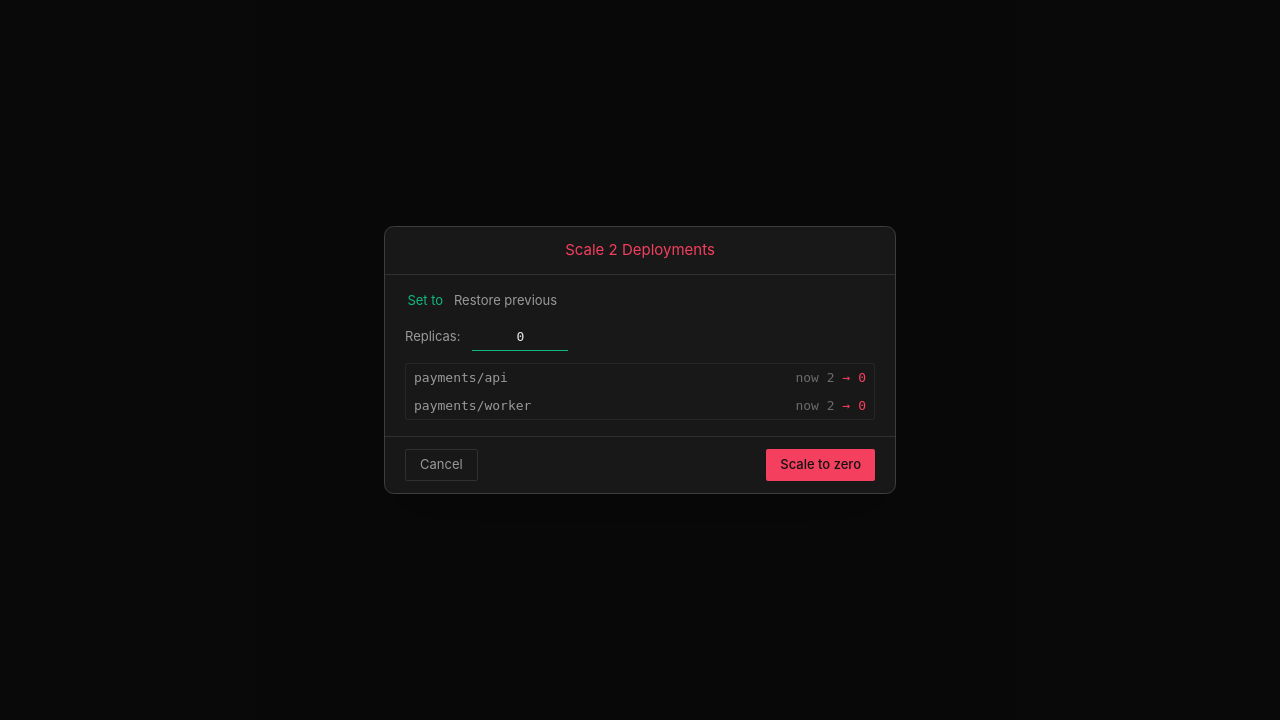
BulkScaleDialog, restoring › will not run a restore when nothing in the selection has a record
Click the button "Restore previous": (506, 300) [452, 290, 560, 310]
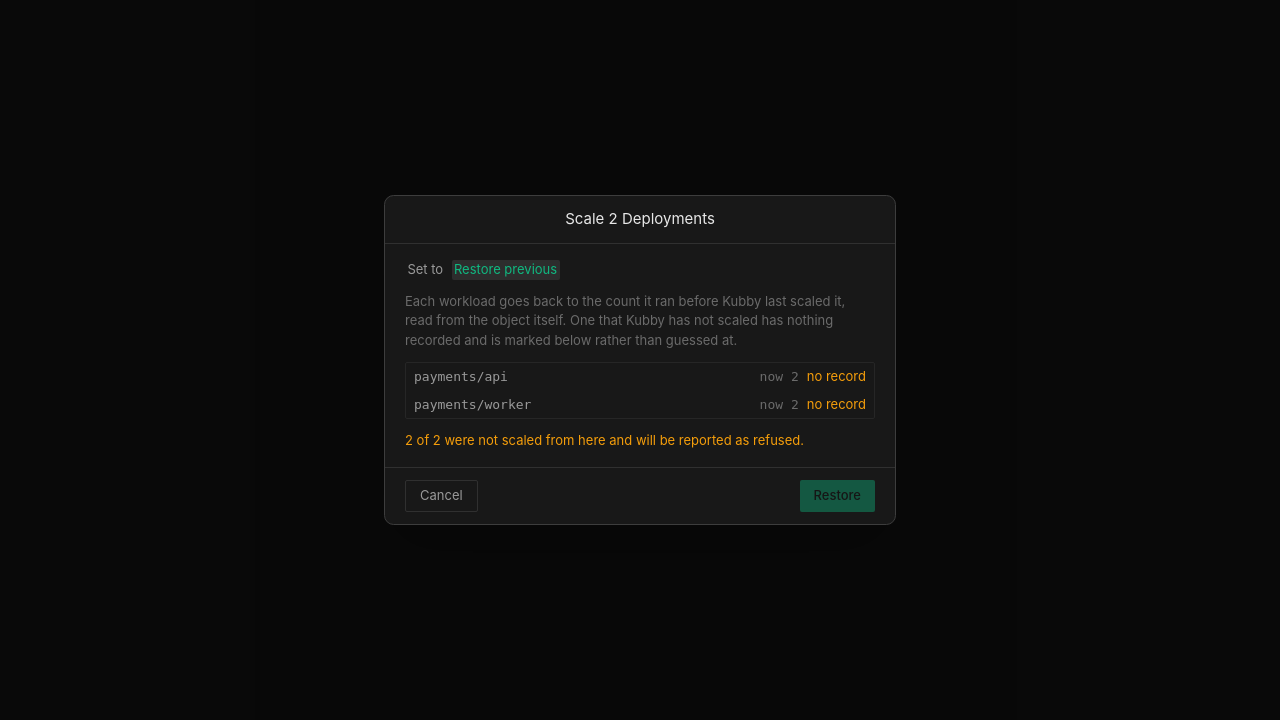
Check: the button "Restore" is disabled, box [800, 480, 875, 512]
